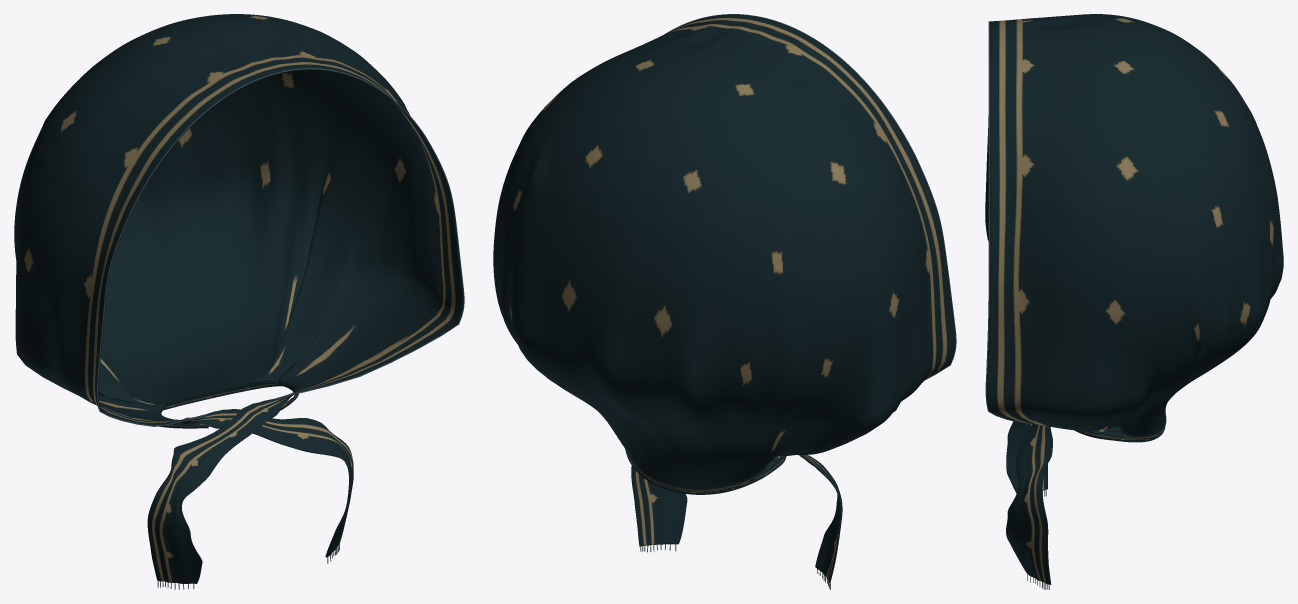
The model's file is Feminine-tank-compact-pashmina248-headgear.glb.
The picture shows the model from 3 angles, left to right: view 1: azimuth 30°, elevation 25°; view 2: azimuth 150°, elevation 25°; view 3: azimuth 270°, elevation 25°; orthographic projection. The views are drawn at different scales.
Parts seen in each view (by area): view 1: 226 headgear / Headwear / continuous woven pashmina239, 226 headgear / Headwear / face edge239; view 2: 226 headgear / Headwear / continuous woven pashmina239, 226 headgear / Headwear / face edge239; view 3: 226 headgear / Headwear / continuous woven pashmina239, 226 headgear / Headwear / face edge239.
Part boxes in pixels (<box>): 226 headgear / Headwear / continuous woven pashmina239: <box>14,14,463,583</box>; 226 headgear / Headwear / face edge239: <box>96,68,464,426</box>; 226 headgear / Headwear / continuous woven pashmina239: <box>493,14,955,583</box>; 226 headgear / Headwear / face edge239: <box>664,14,956,379</box>; 226 headgear / Headwear / continuous woven pashmina239: <box>985,14,1283,584</box>; 226 headgear / Headwear / face edge239: <box>985,21,1028,423</box>.
Size of the model in its own units: 1.02 by 1.35 by 0.7112.
3 materials, 1 textured.
